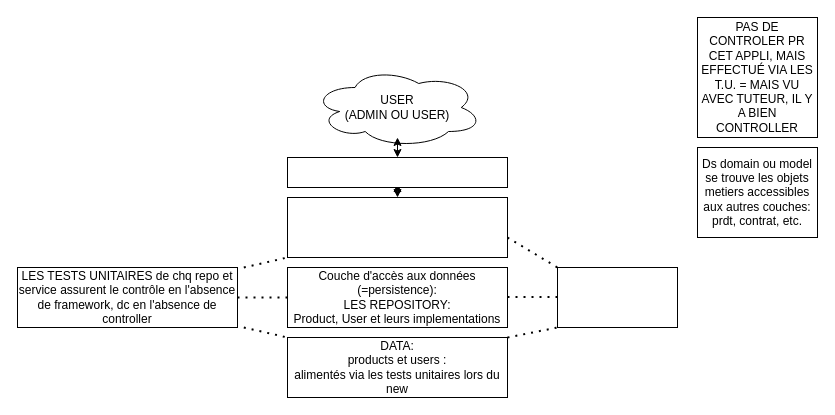
Image size: 835x415. Some labels were removed from this diagram. The shapes that lost their labels are listed below. From the top down, each one's centre as x and y in pixels, then its label:
the point at 397,172: Couche présentation: CONTROLLER
the point at 397,227: Couche métier: LES SERVICES: Admin, Product, User, et leurs implementations
the point at 617,297: OBJETS METIERS: présents dans model: ici: A REPRECISER!
